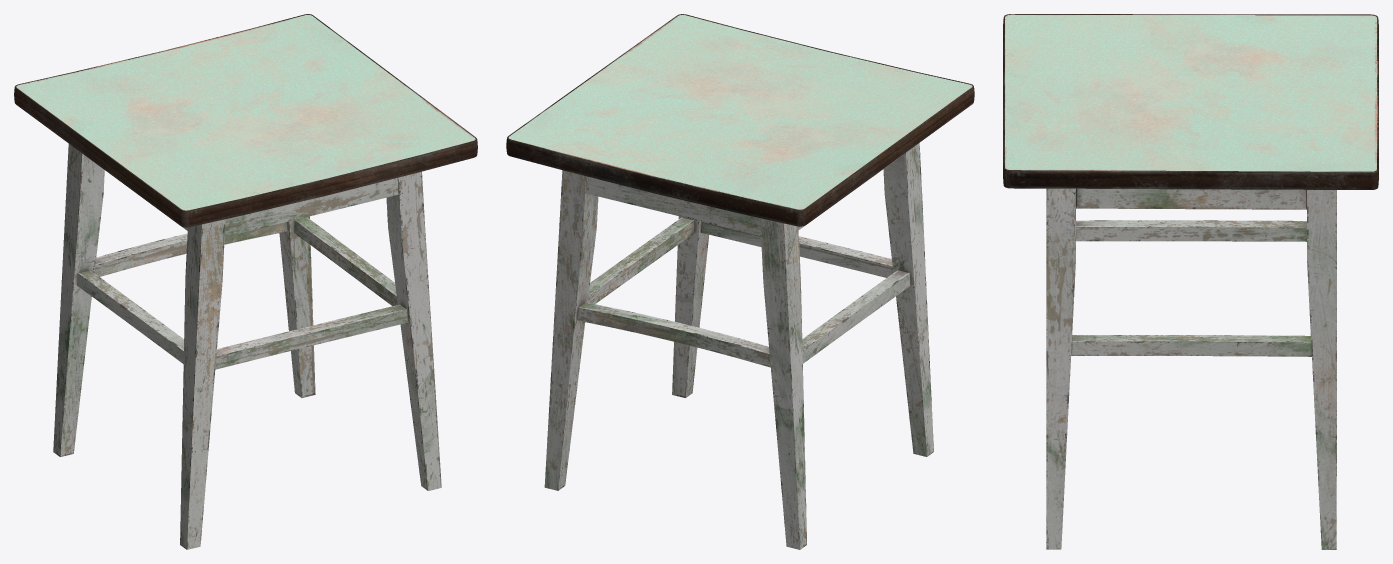
The model's file is stool_1.glb.
3 views of the same model, side by side, from view 1: azimuth 30°, elevation 25°; view 2: azimuth 150°, elevation 25°; view 3: azimuth 270°, elevation 25° (orthographic). The views are drawn at different scales.
Parts seen in each view (by area): view 1: Cube.014; view 2: Cube.014; view 3: Cube.014.
Boxes of the visible parts, box(x1,y1,x2,y2) form: Cube.014: box(14, 14, 477, 549); Cube.014: box(506, 14, 974, 549); Cube.014: box(1003, 14, 1378, 549).
Size of the model in its own units: 2.01 by 2.29 by 2.01.
1 material, 1 textured.
